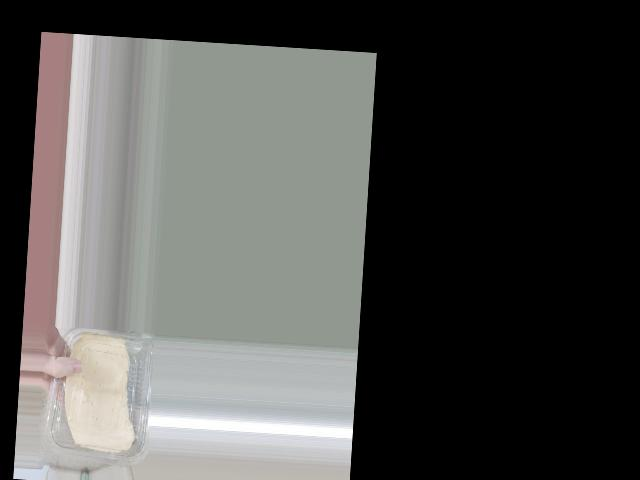cheese: (54, 326, 155, 467)
